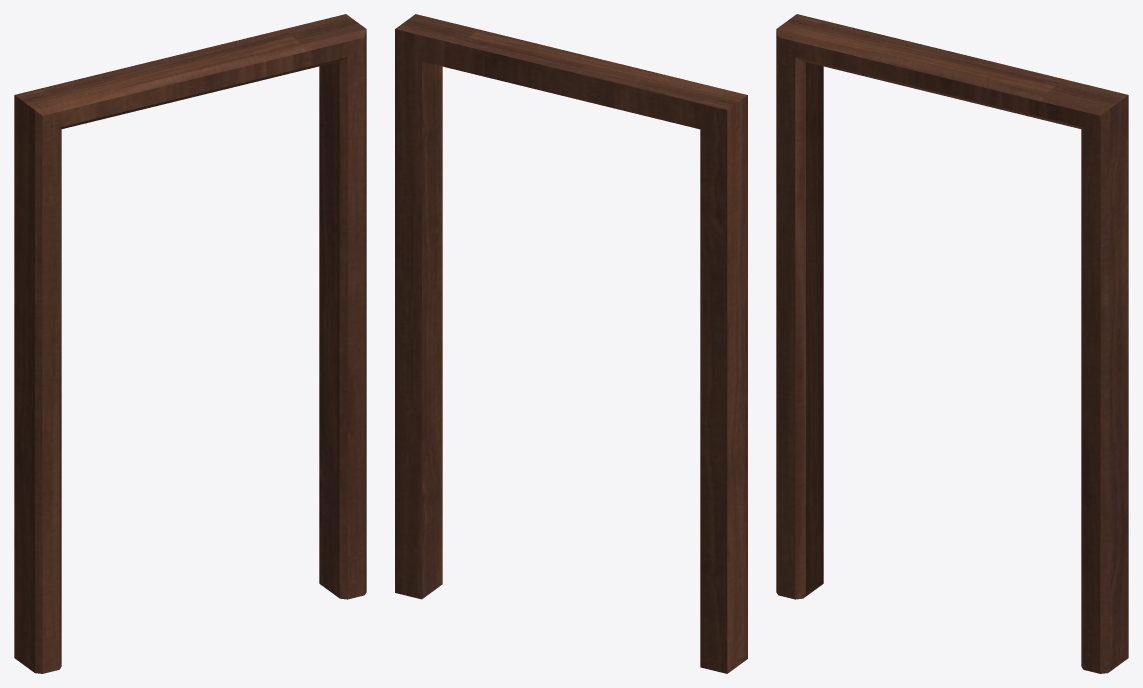
Rendered from Door_Frame.fbx.
3 renders of one model, left to right at view 1: azimuth 30°, elevation 25°; view 2: azimuth 150°, elevation 25°; view 3: azimuth 330°, elevation 25°, orthographic.
Parts seen in each view (by area): view 1: Door_Frame; view 2: Door_Frame; view 3: Door_Frame.
Part boxes in pixels (x1,y1,x2,y2): Door_Frame: (14,14,366,673); Door_Frame: (395,14,747,673); Door_Frame: (776,14,1128,673).
Bounding box in the file's own units: 1.73 × 2.81 × 0.2117.
1 material, 1 textured.
